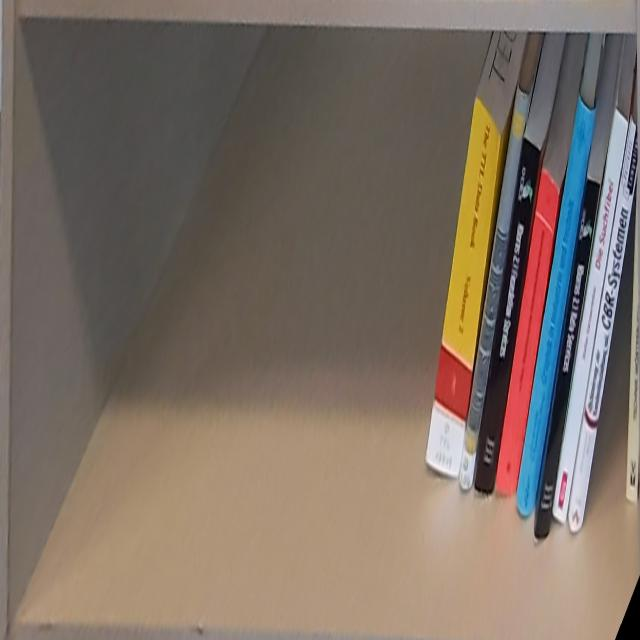Book Spine: (517, 96, 597, 519), (551, 106, 628, 528), (565, 117, 640, 534), (458, 85, 531, 494), (428, 97, 503, 480), (531, 176, 600, 538), (474, 139, 543, 493), (492, 170, 562, 492), (626, 181, 640, 508)
